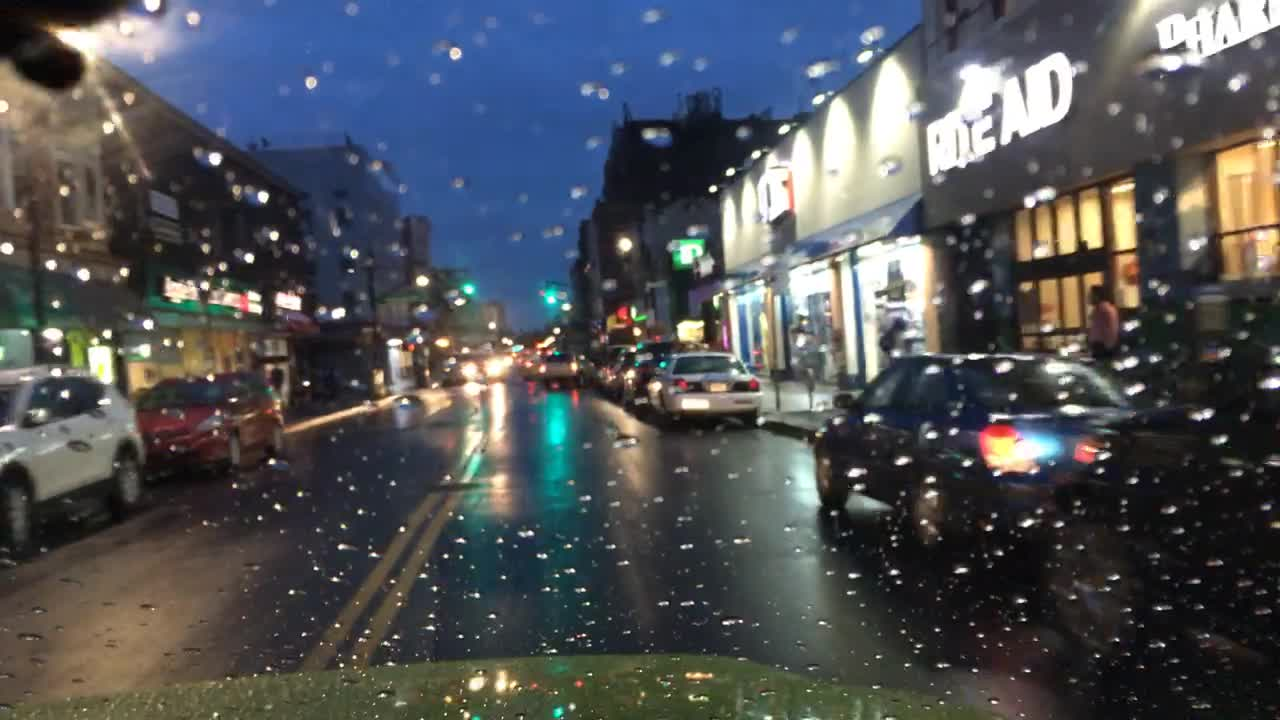car: (1051, 308, 1276, 672), (813, 351, 1145, 553), (1, 364, 145, 562), (137, 374, 284, 476), (643, 348, 764, 426), (606, 337, 685, 406), (588, 342, 628, 387), (451, 352, 500, 383), (541, 351, 582, 384), (521, 352, 544, 378)
person: (1072, 280, 1126, 359)
traffic light: (463, 278, 474, 296), (402, 337, 415, 351), (536, 288, 545, 302), (546, 288, 553, 305)
